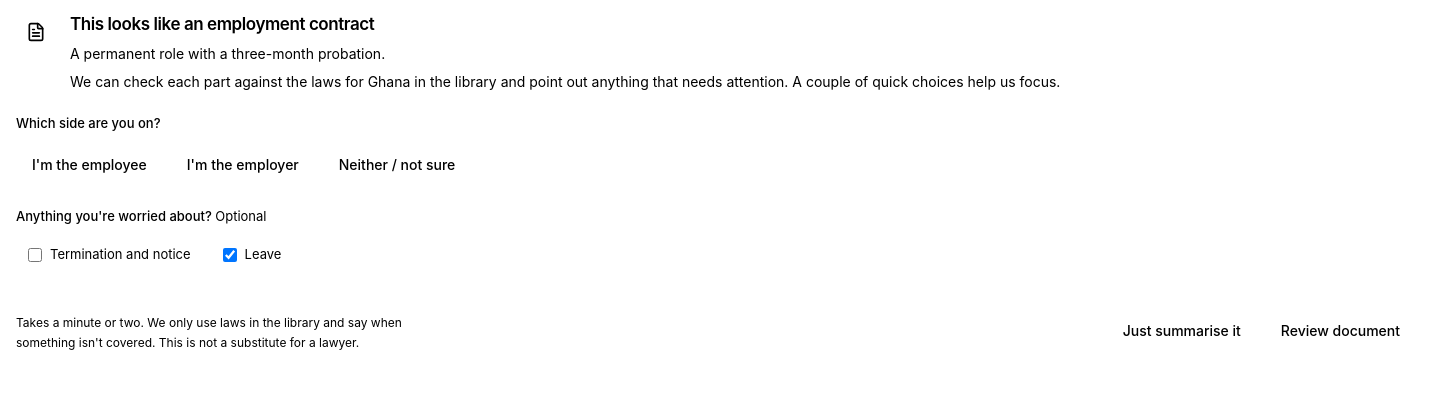
Scenario: document review card › shows a calm message when the library is unavailable
This screenshot has width=1433, height=400.
Click the button "Review document" at (1340, 330), box [1265,308,1416,352]
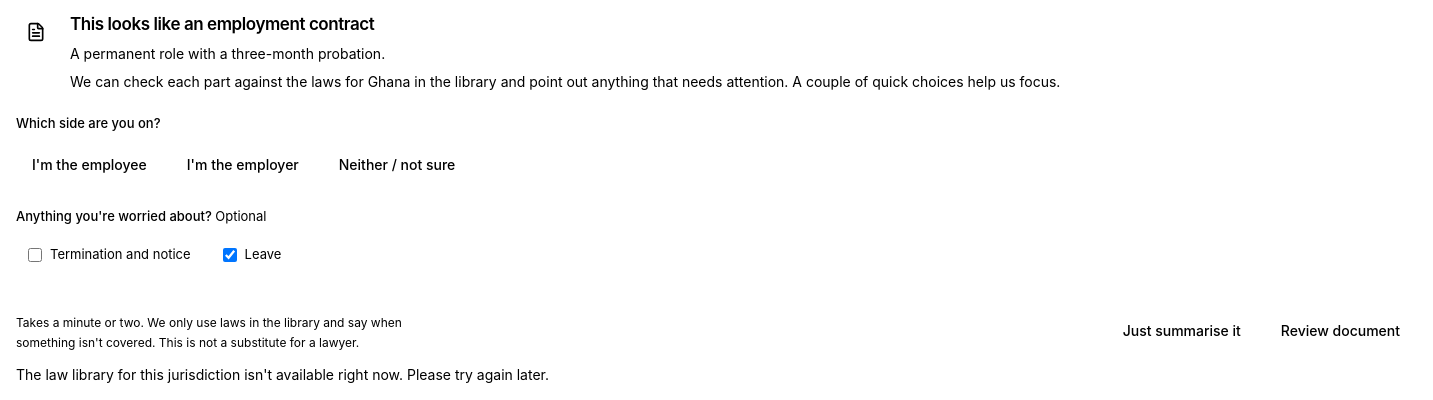
Check: the message shows "The law library for this jurisdiction isn't available right now.", box [16,366,549,382]
